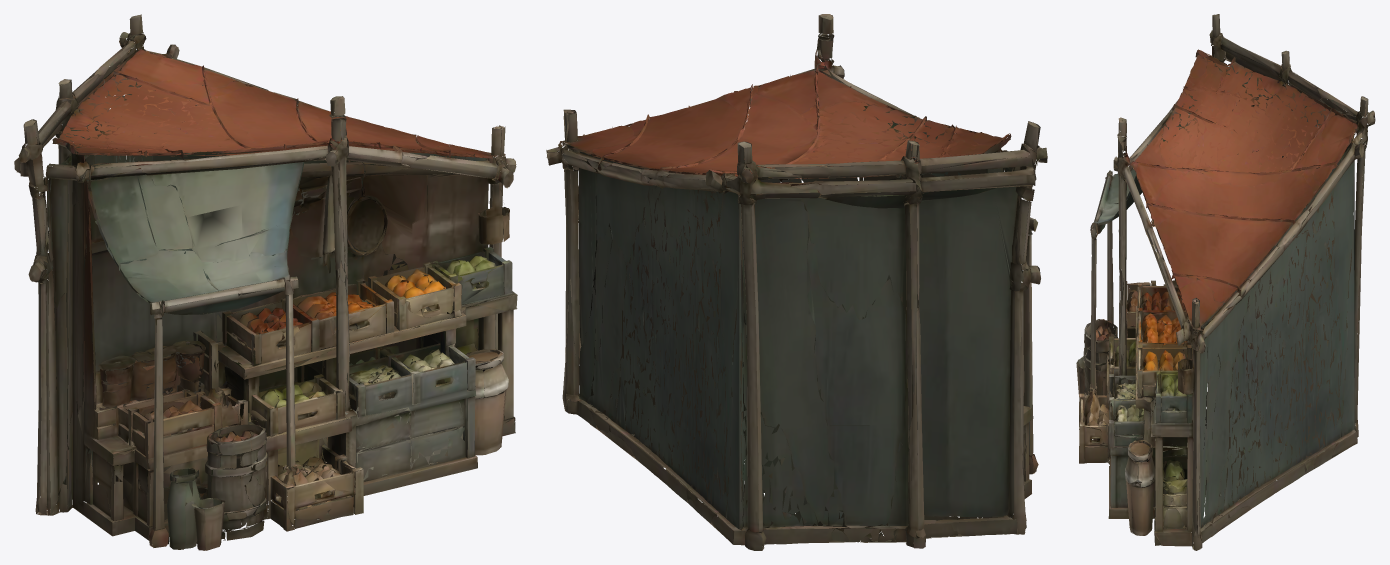
File: produce_market_stall_web.glb
3 renders of one model, left to right at view 1: azimuth 30°, elevation 25°; view 2: azimuth 150°, elevation 25°; view 3: azimuth 270°, elevation 25°, orthographic. The views are drawn at different scales.
Parts seen in each view (by area): view 1: produce_market_stall; view 2: produce_market_stall; view 3: produce_market_stall.
Part boxes in pixels (box(x1,y1,x2,y2)): produce_market_stall: box(14, 14, 517, 550); produce_market_stall: box(546, 14, 1047, 550); produce_market_stall: box(1076, 14, 1375, 550).
Bounding box in the file's own units: 3.6 × 2.81 × 2.2.
1 material, 1 textured.
